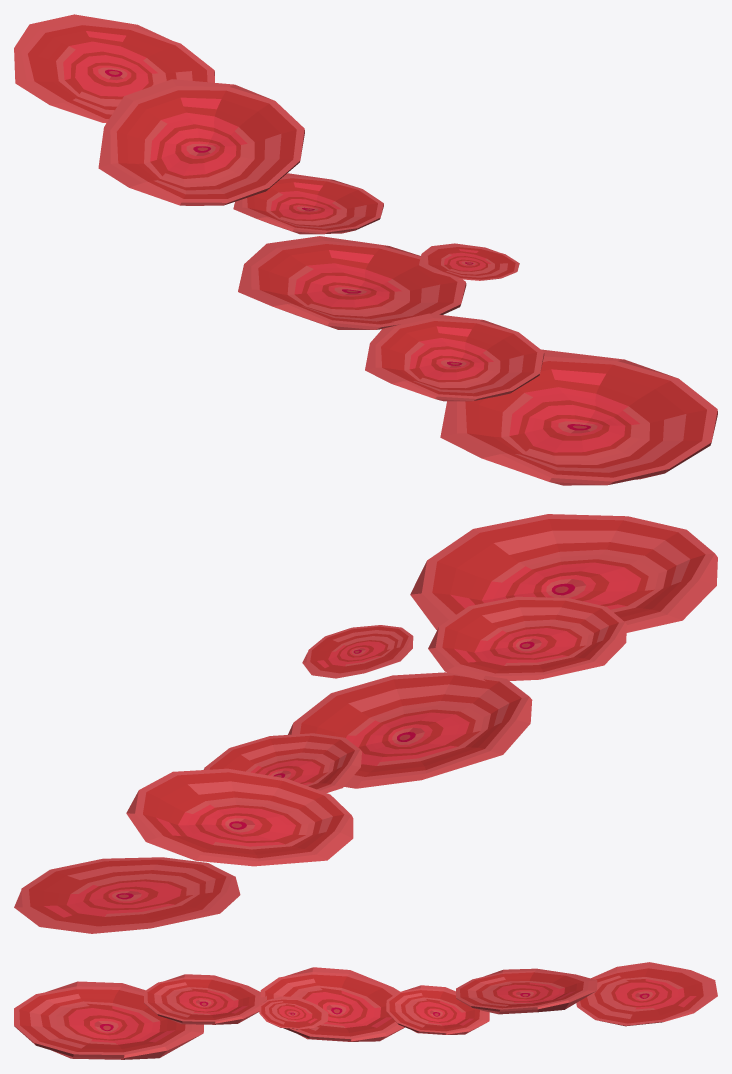
File: DriedFood03.fbx
3 renders of one model, top to bottom at view 1: azimuth 30°, elevation 25°; view 2: azimuth 150°, elevation 25°; view 3: azimuth 270°, elevation 25°, orthographic. The views are drawn at different scales.
Visible parts, largest first — view 1: DriedFoof03; view 2: DriedFoof03; view 3: DriedFoof03.
Boxes of the visible parts, box(x1,y1,x2,y2) form: DriedFoof03: box(14, 14, 717, 485); DriedFoof03: box(14, 514, 717, 933); DriedFoof03: box(14, 962, 717, 1059).
Size of the model in its own units: 3.35 by 0.8522 by 13.02.
